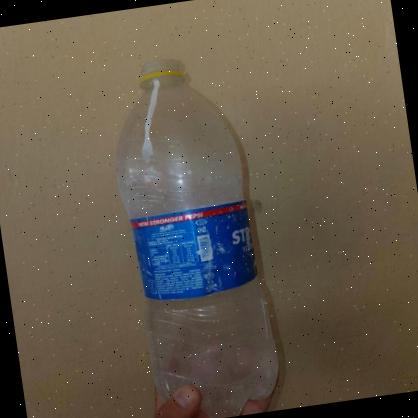bottle: (85, 39, 303, 418)
label: (123, 197, 271, 309)
